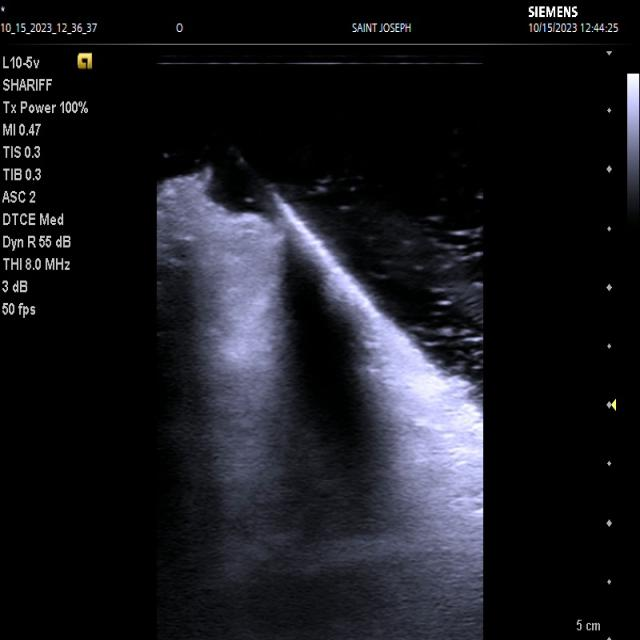tissue: (160, 165, 483, 640)
